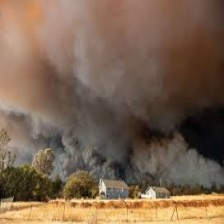smoke: (47, 1, 193, 169)
